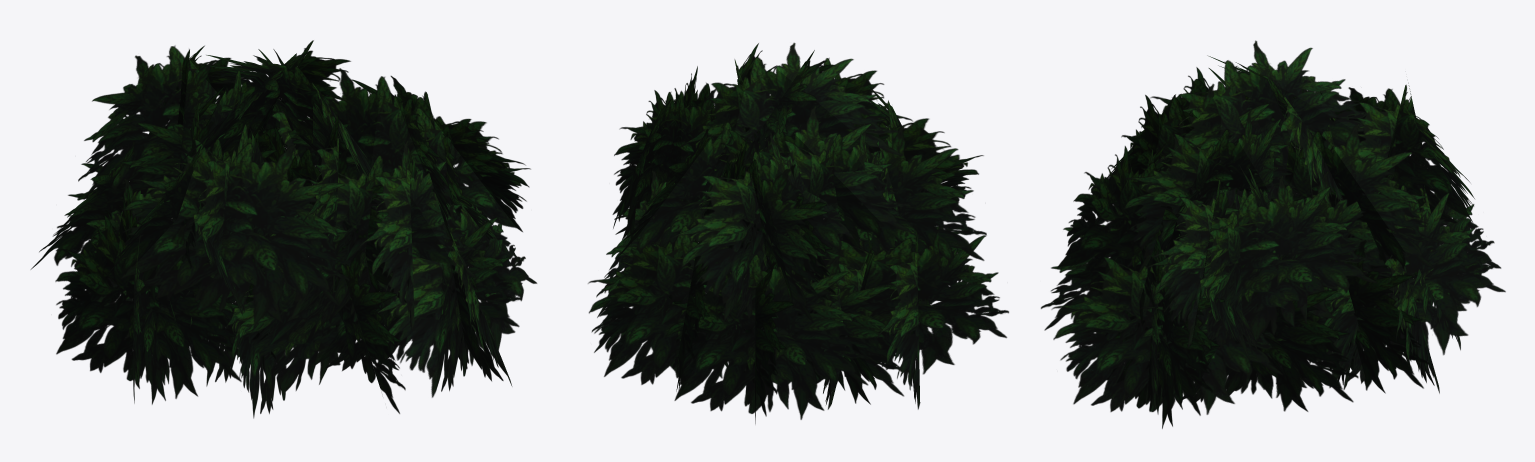
File: Plant_G.glb
3 views of the same model, side by side, from view 1: azimuth 30°, elevation 25°; view 2: azimuth 150°, elevation 25°; view 3: azimuth 270°, elevation 25° (orthographic). The views are drawn at different scales.
Parts seen in each view (by area): view 1: Plant_G_instance.001; view 2: Plant_G_instance.001; view 3: Plant_G_instance.001.
Boxes of the visible parts, left/top/right/bottom form: Plant_G_instance.001: left=30, top=40, right=536, bottom=418; Plant_G_instance.001: left=588, top=42, right=1008, bottom=423; Plant_G_instance.001: left=1041, top=40, right=1505, bottom=428.
Bounding box in the file's own units: 1.23 × 0.895 × 1.23.
Materials: 1 (1 with a texture image).
